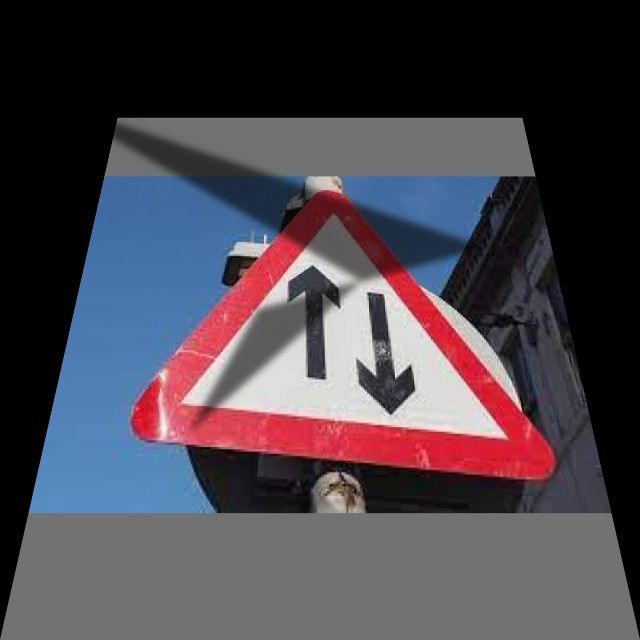Mandatory_Two_Way_Traffic: (150, 194, 547, 470)
